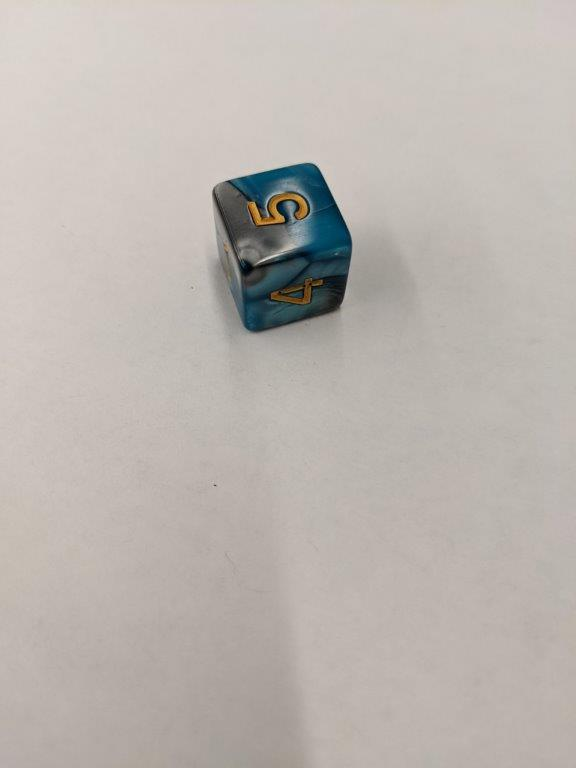d6-5: (211, 163, 354, 334)
